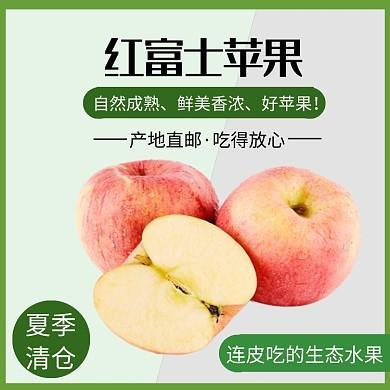apple: (92, 213, 259, 356), (220, 166, 360, 309), (78, 161, 215, 276)
